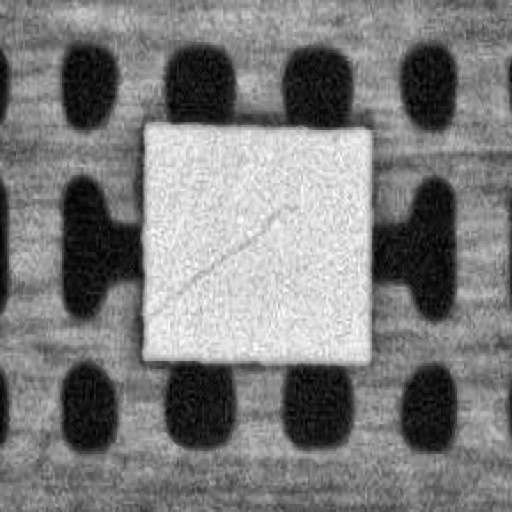DIE_CRACK: (146, 199, 292, 324)
